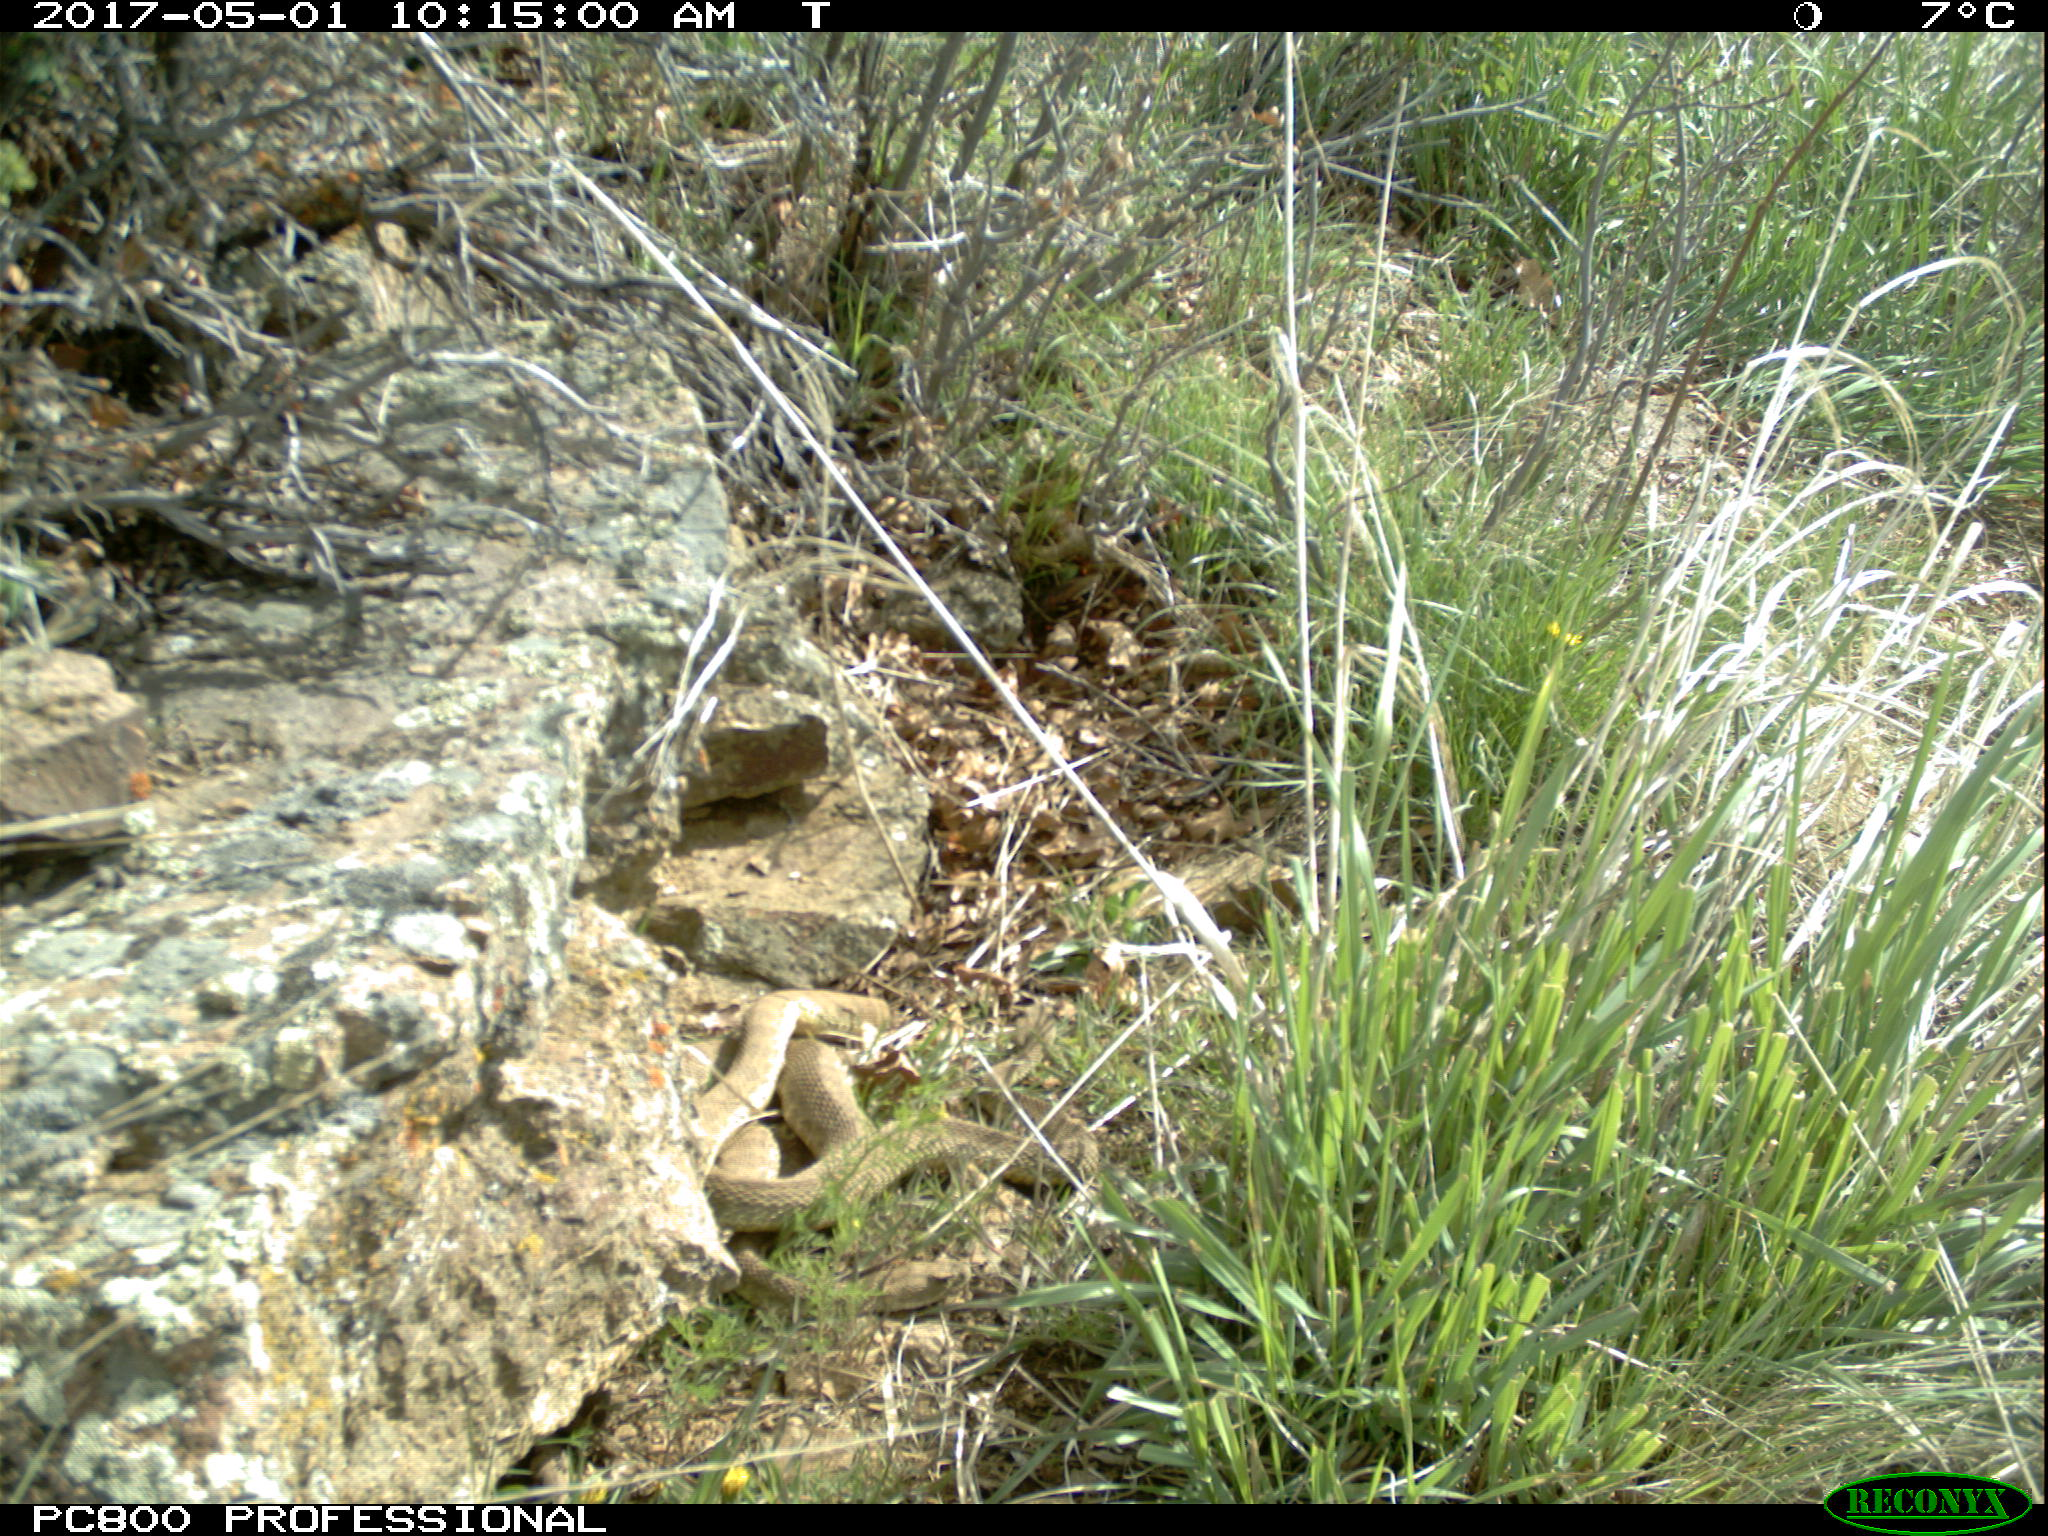snake: (676, 984, 1127, 1320)
